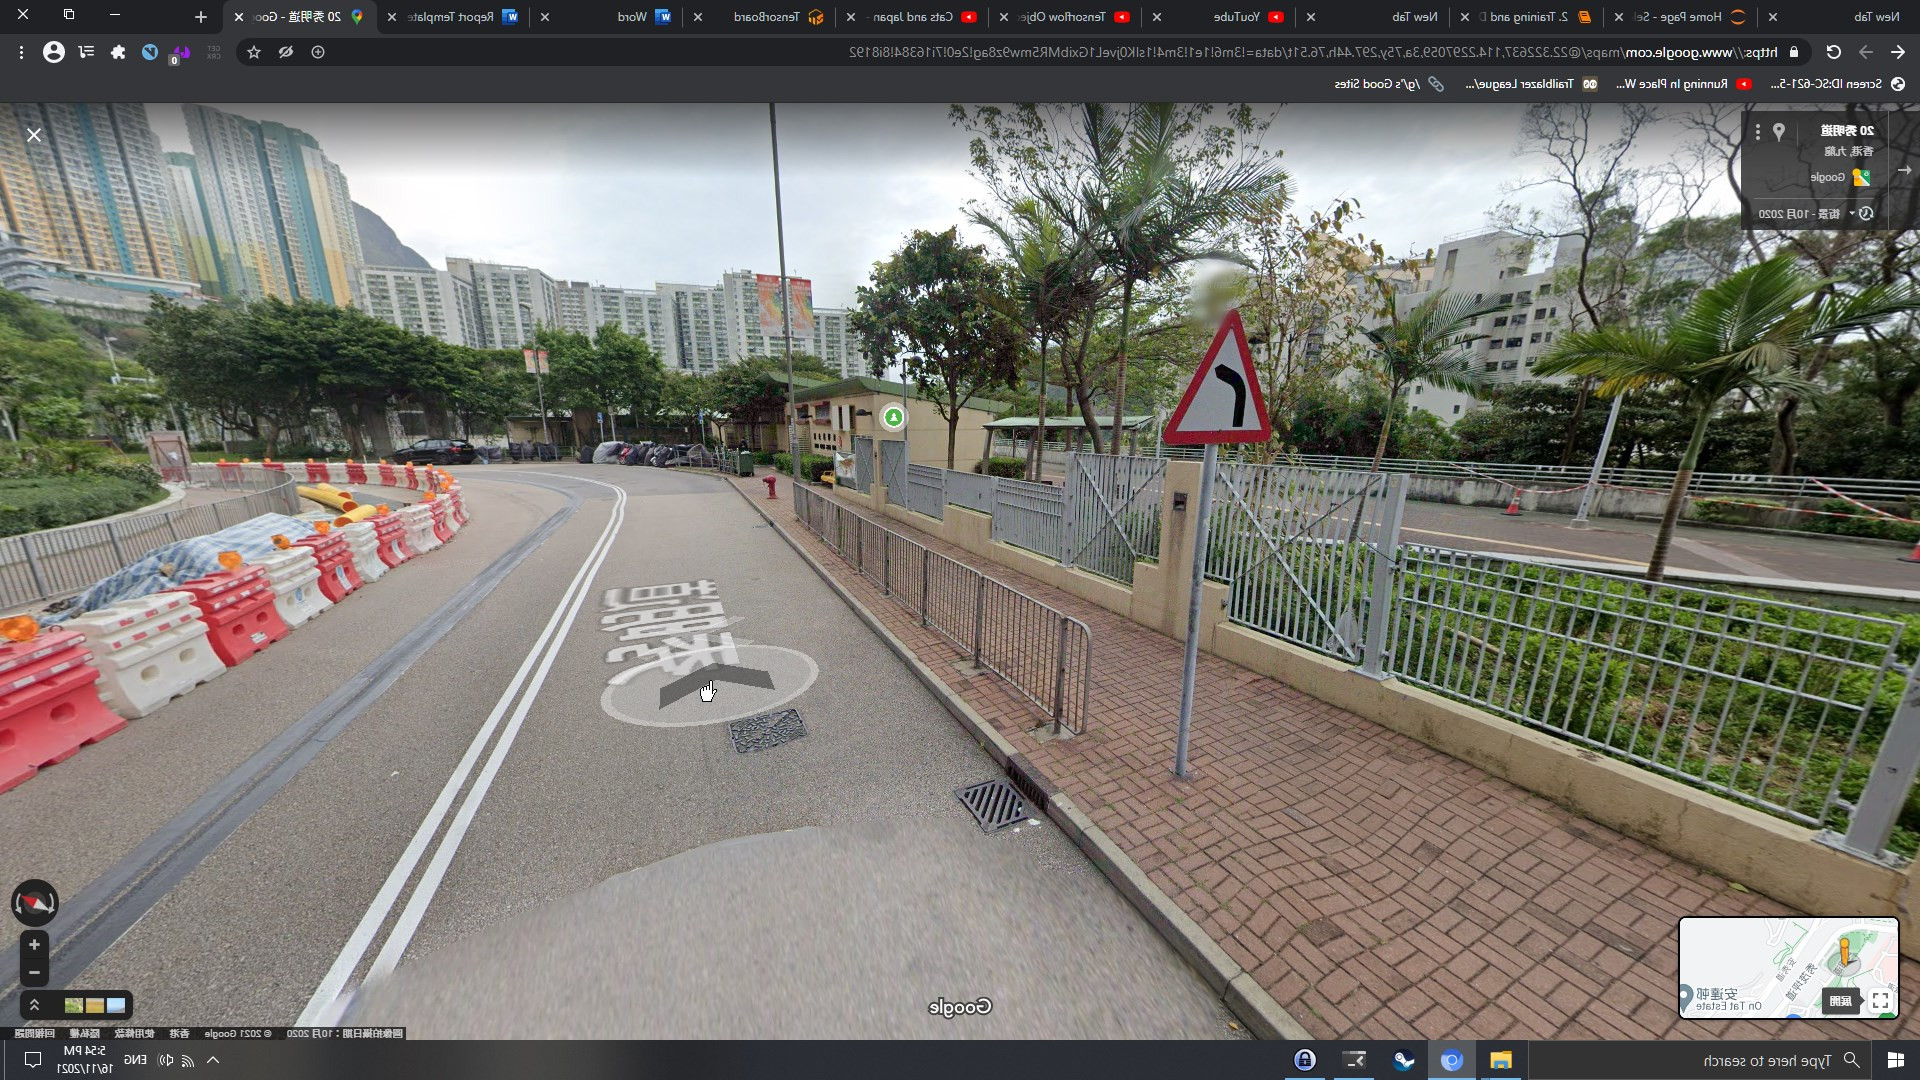BendToLeft: (1162, 309, 1273, 444)
